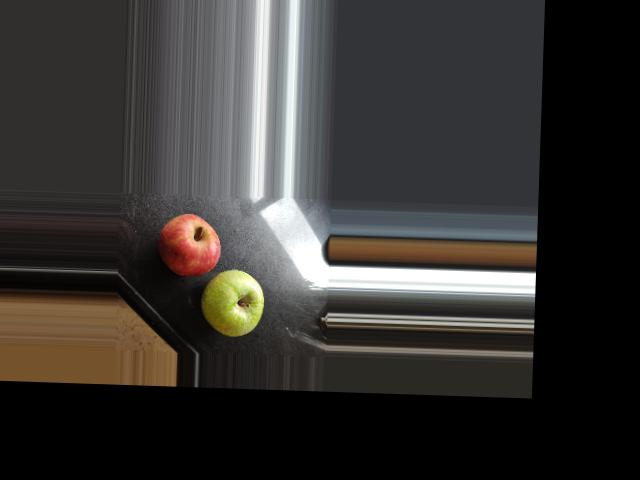apple: (154, 210, 224, 274)
